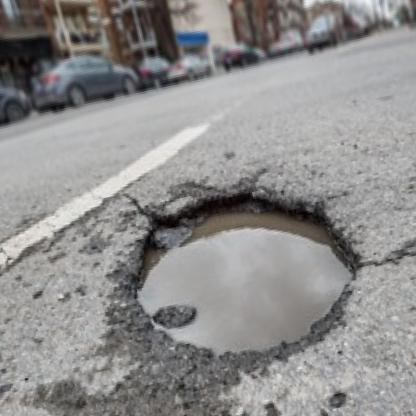pothole: (112, 165, 373, 376)
